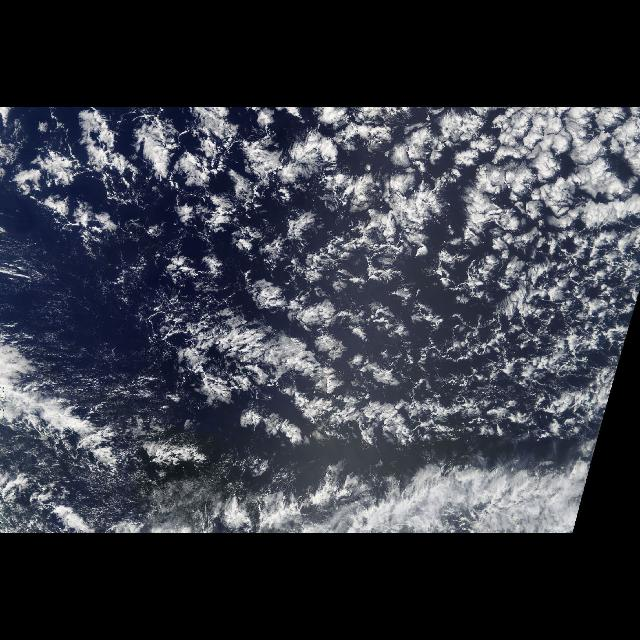Fish: (1, 334, 600, 532)
Flower: (225, 107, 640, 441)
